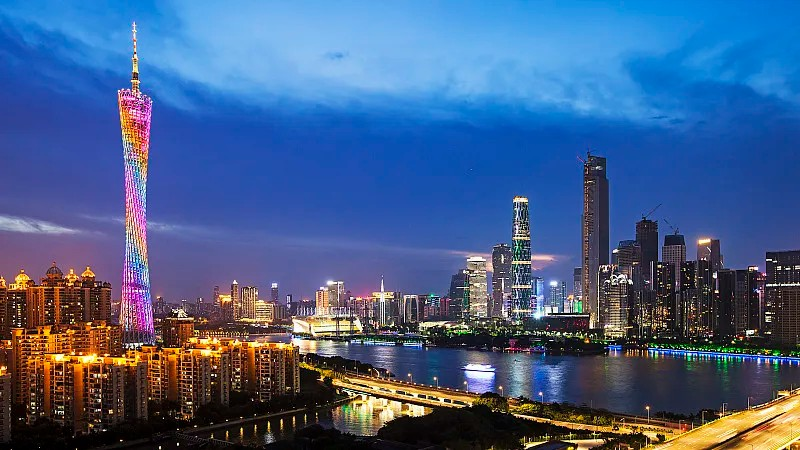Canton: (114, 19, 160, 348)
